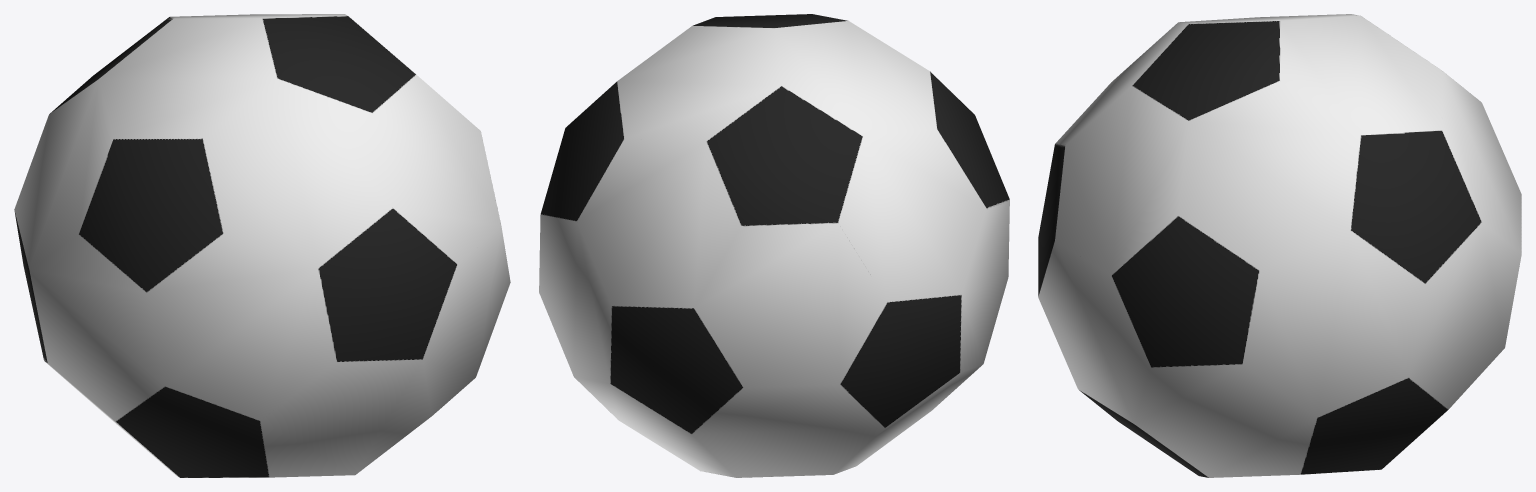
File: FootBall.fbx
The picture shows the model from 3 angles, left to right: view 1: azimuth 30°, elevation 25°; view 2: azimuth 150°, elevation 25°; view 3: azimuth 270°, elevation 25°; orthographic projection. The views are drawn at different scales.
Parts seen in each view (by area): view 1: FootBall; view 2: FootBall; view 3: FootBall.
Boxes of the visible parts, box(x1,y1,x2,y2) form: FootBall: box(14, 14, 510, 477); FootBall: box(539, 14, 1009, 477); FootBall: box(1038, 14, 1521, 477).
Size of the model in its own units: 26.38 by 26.74 by 26.03.
Materials: 1 (1 with a texture image).
